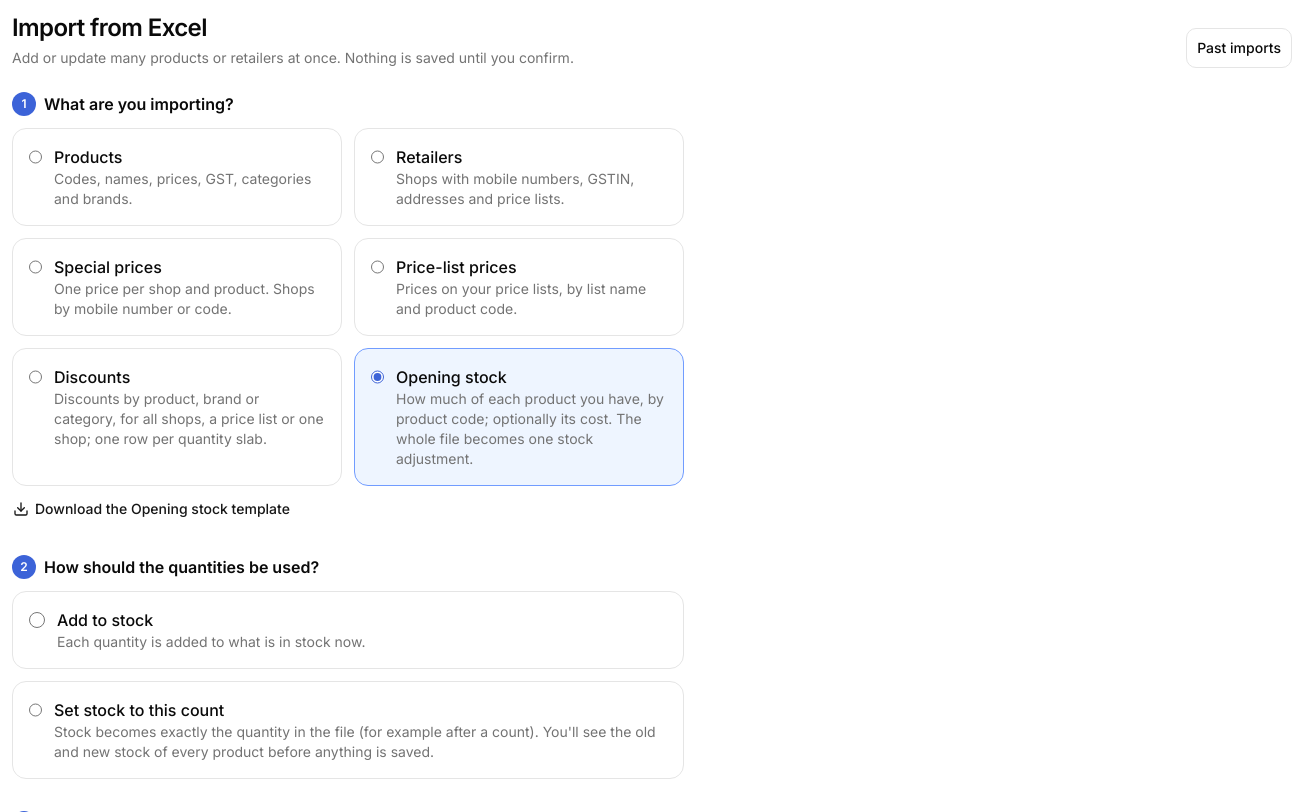
Test: opening stock import › clears the mode when another kind is chosen
This screenshot has width=1292, height=812.
What coordinates should you click on to do the following:
click the radio button labelled "Add to stock Each quantity is added to what is in stock now."
I would click on:
 (37, 620)
Its box is x1=29 y1=612 x2=45 y2=628.
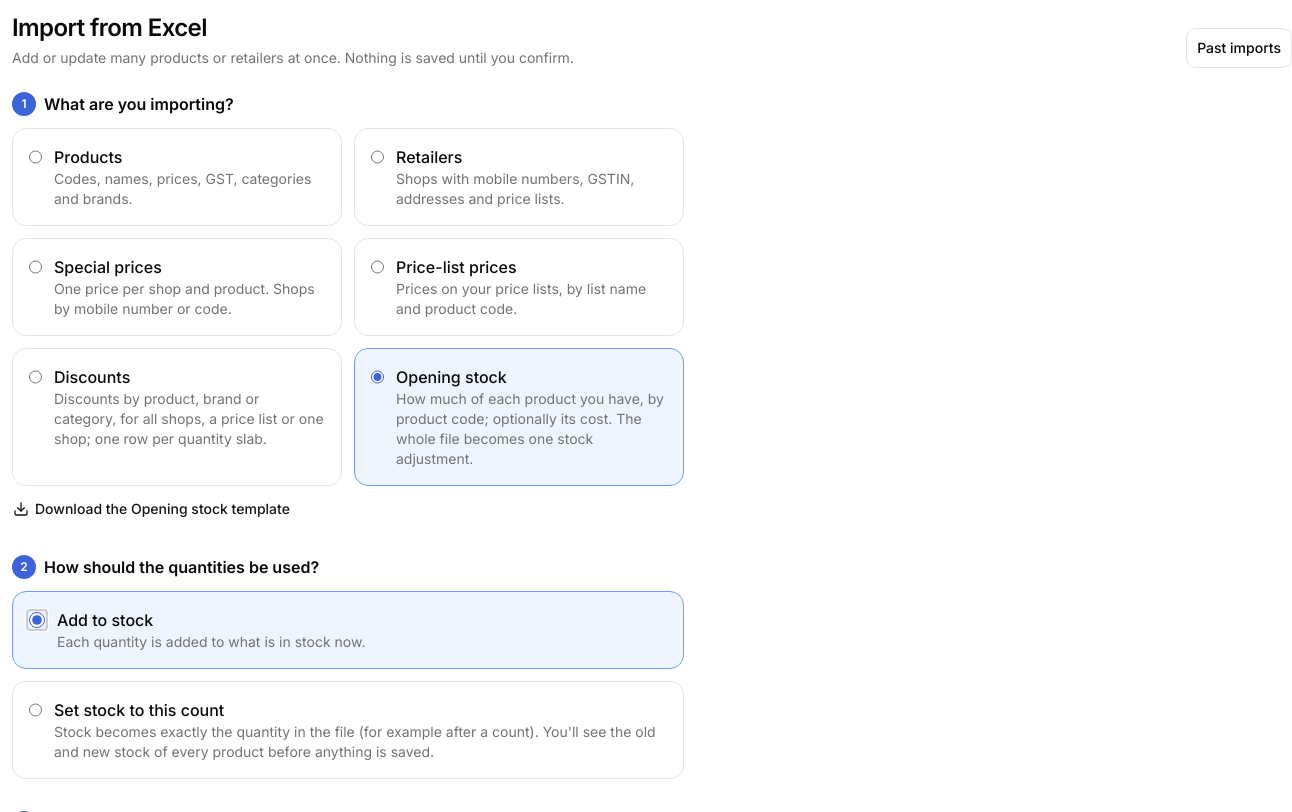
What coordinates should you click on to do the following:
click the radio button labelled "Products Codes, names, prices, GST, categories and brands."
I would click on:
 (36, 157)
Its box is x1=29 y1=149 x2=42 y2=165.
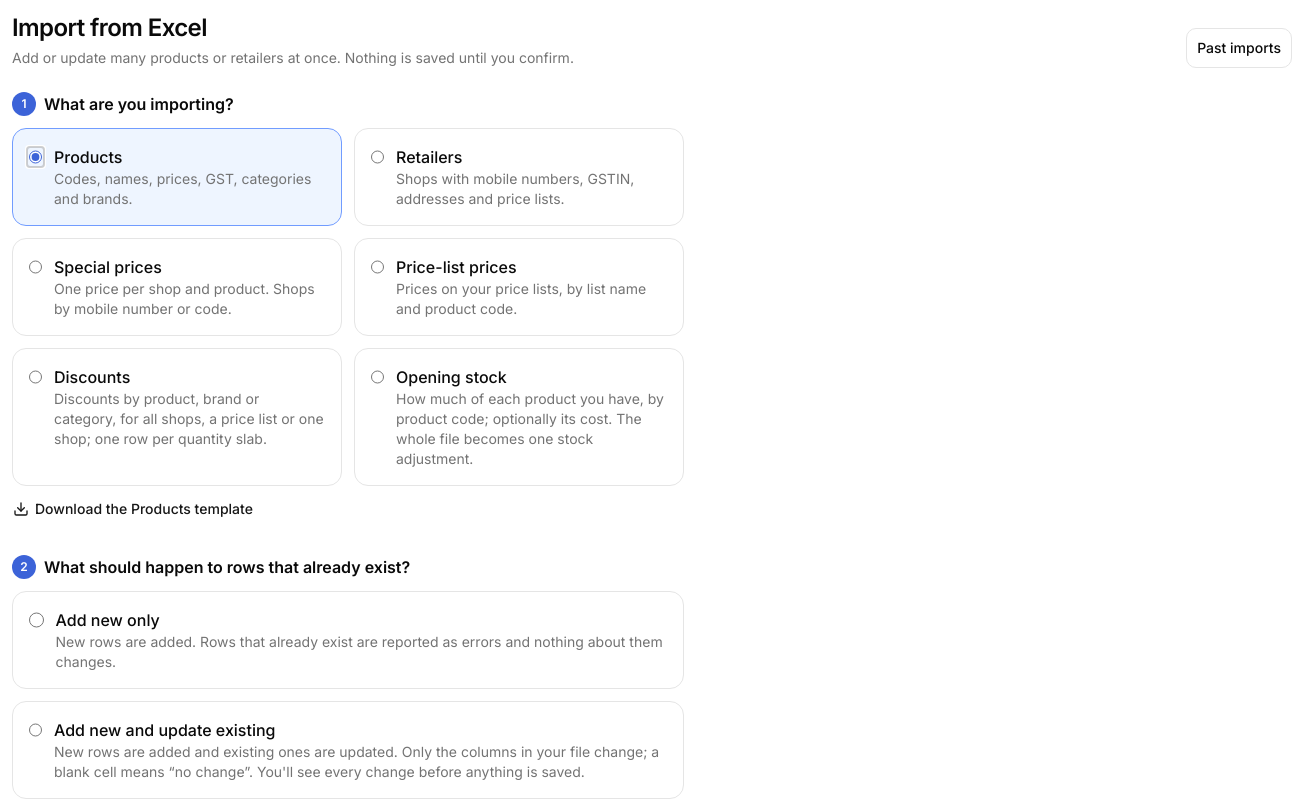
Expected: the radio button labelled "Add new and update existing" is not checked, x1=29 y1=722 x2=42 y2=738
Result: the radio button labelled "Add new only" is not checked at x1=29 y1=612 x2=44 y2=628
